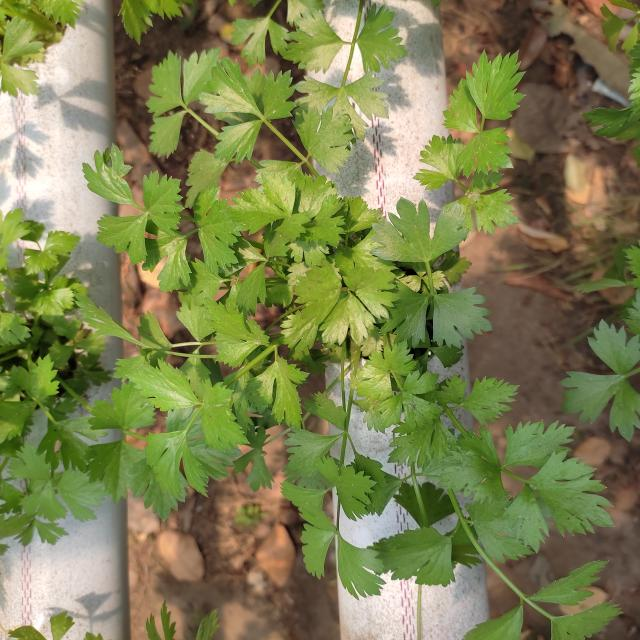Wet Waste: (95, 88, 578, 609)
